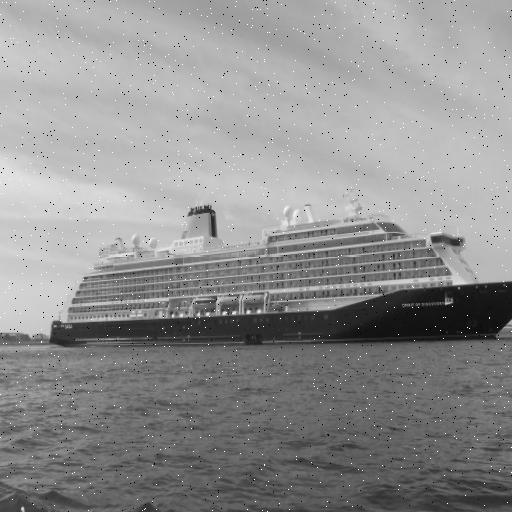cruises: (46, 188, 512, 339)
